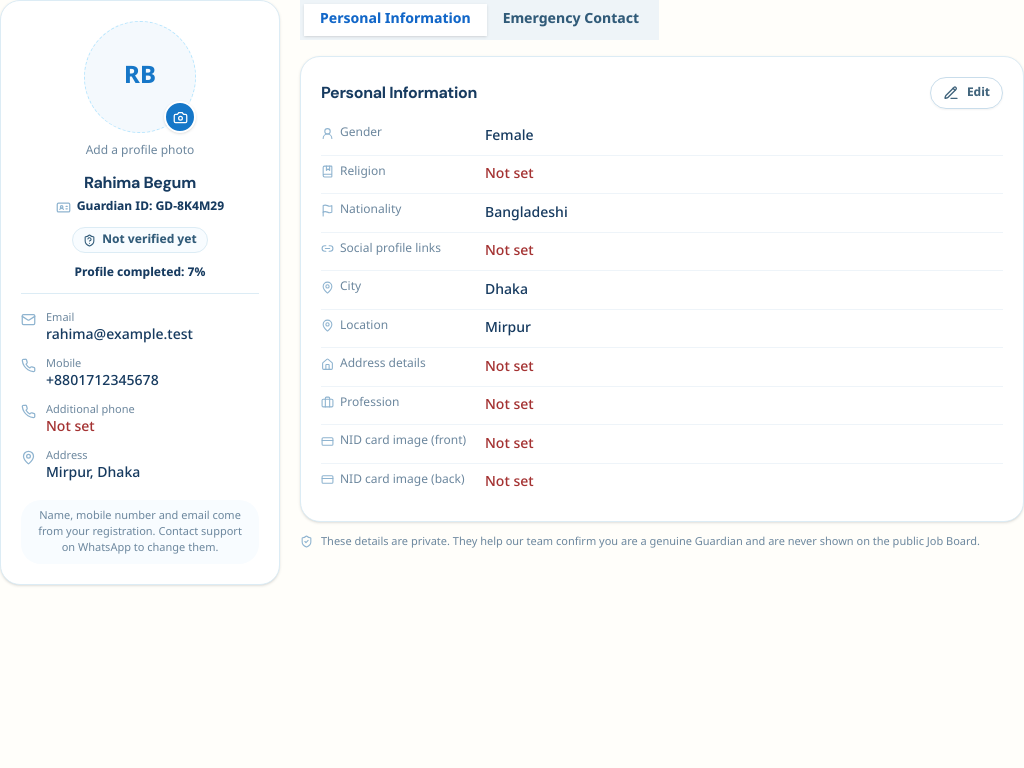
Test case: GuardianProfileWorkspace › shows both tabs as read-outs and marks empty optional fields
This screenshot has width=1024, height=768.
expect the text "Guardian ID: GD-8K4M29" is shown: met, box top-left (56, 199), bottom-right (224, 215)
expect the text "Bangladeshi" is shown: met, box top-left (485, 204), bottom-right (568, 222)
Click the tab "Emergency Contact": {"x": 571, "y": 20} top-left (487, 4), bottom-right (655, 36)
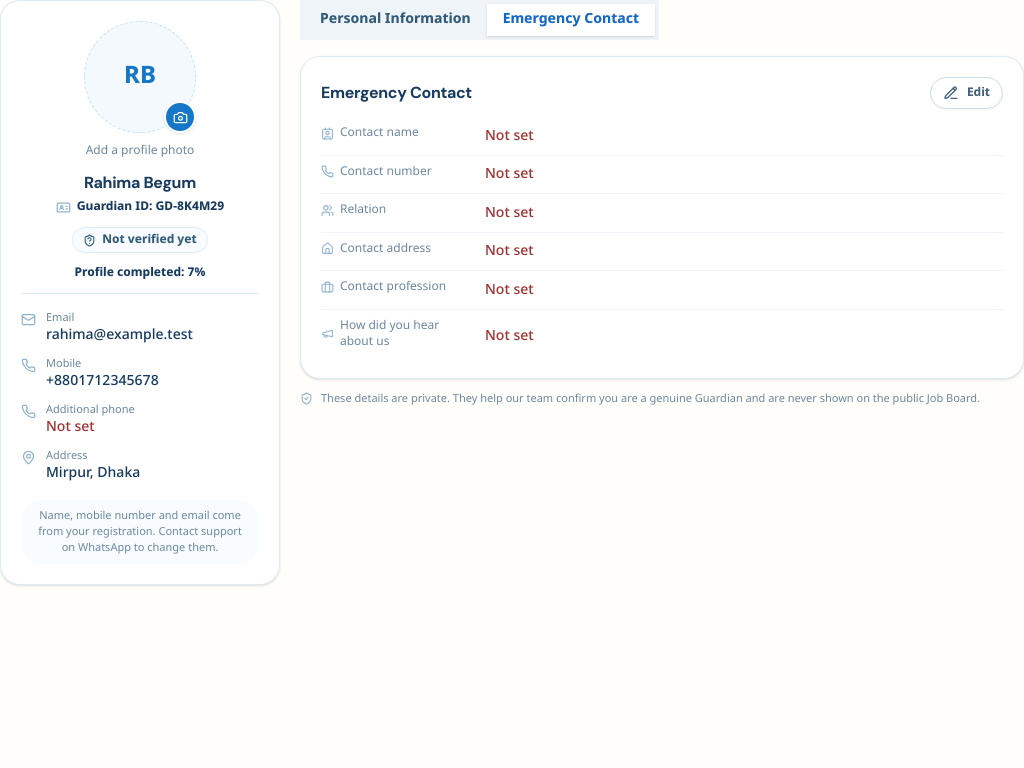
expect the text "Relation" is shown: met, box top-left (321, 202), bottom-right (386, 218)
expect the text "How did you hear about us" is shown: met, box top-left (321, 318), bottom-right (439, 350)
